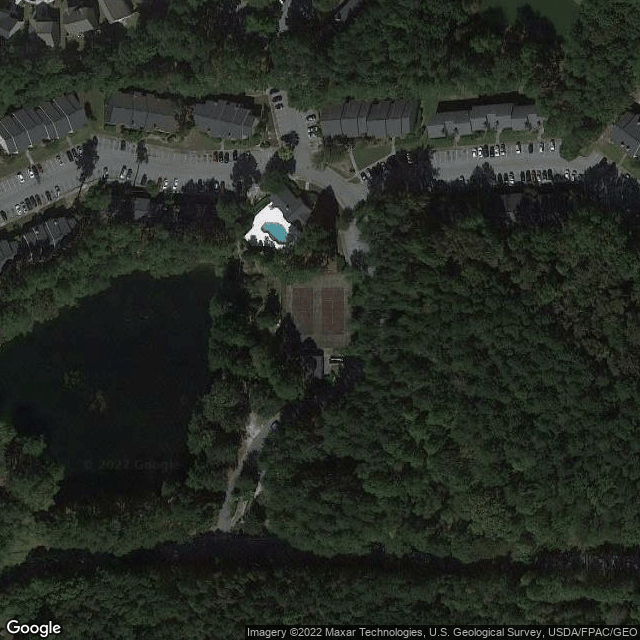Court: (290, 286, 314, 338), (320, 287, 345, 336)
